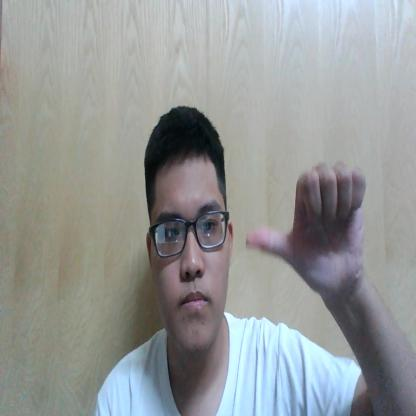right: (244, 161, 365, 288)
